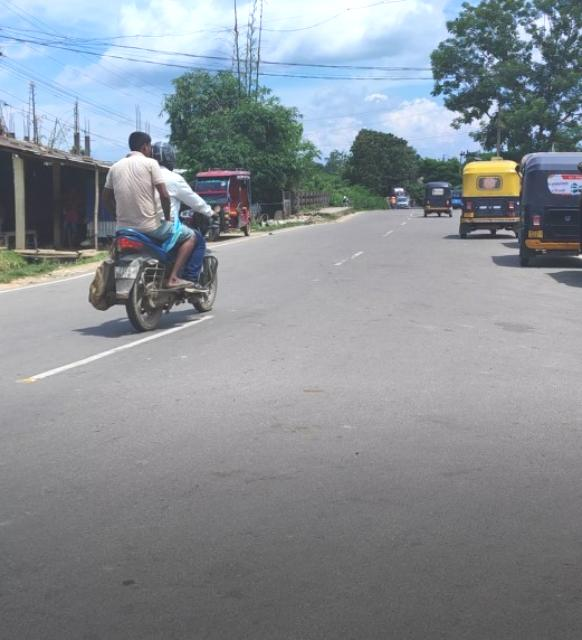licensePlate: (111, 263, 138, 283)
motorcycle: (87, 128, 225, 334)
withHelmet: (154, 144, 179, 167)
withoutHelmet: (122, 132, 152, 154)
